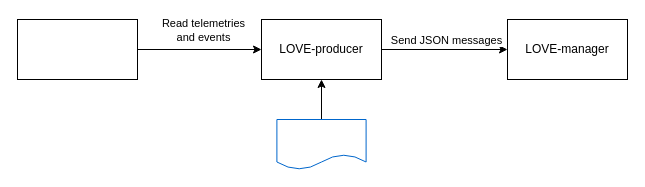
Some shapes in this 645 by 187 pixel diagram are drawn without their labels. Each missing label, with the centre of its shape:
"environment variables" goes at (x=321, y=144).
"SAL" goes at (x=77, y=49).
